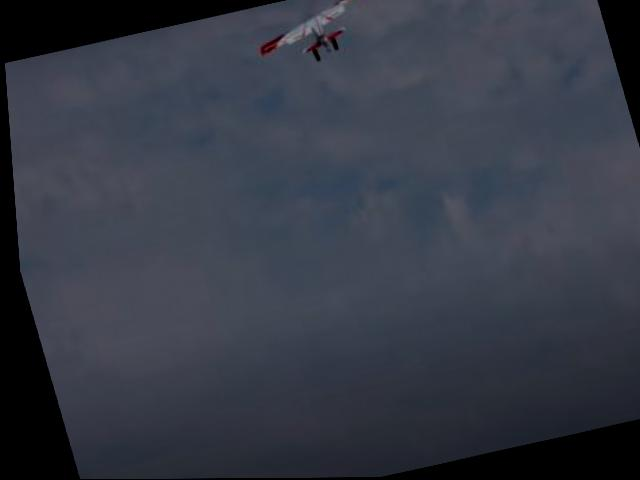uav: (247, 0, 389, 76)
